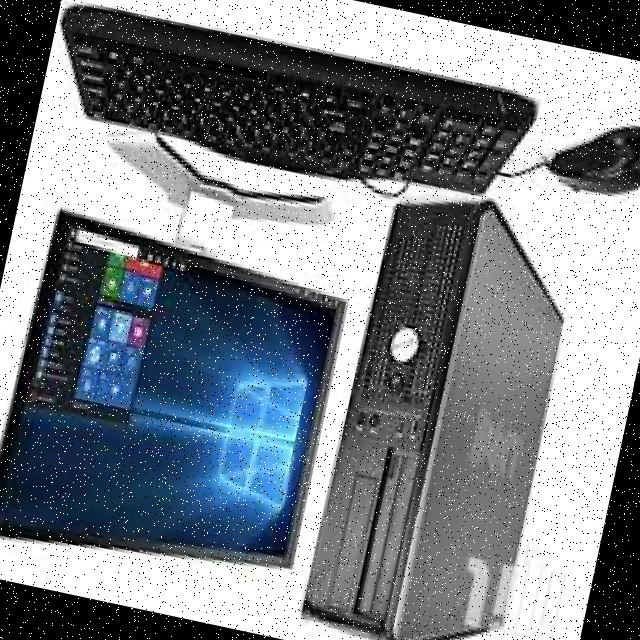Computer: (296, 184, 594, 640)
Monitor: (0, 196, 366, 633)
